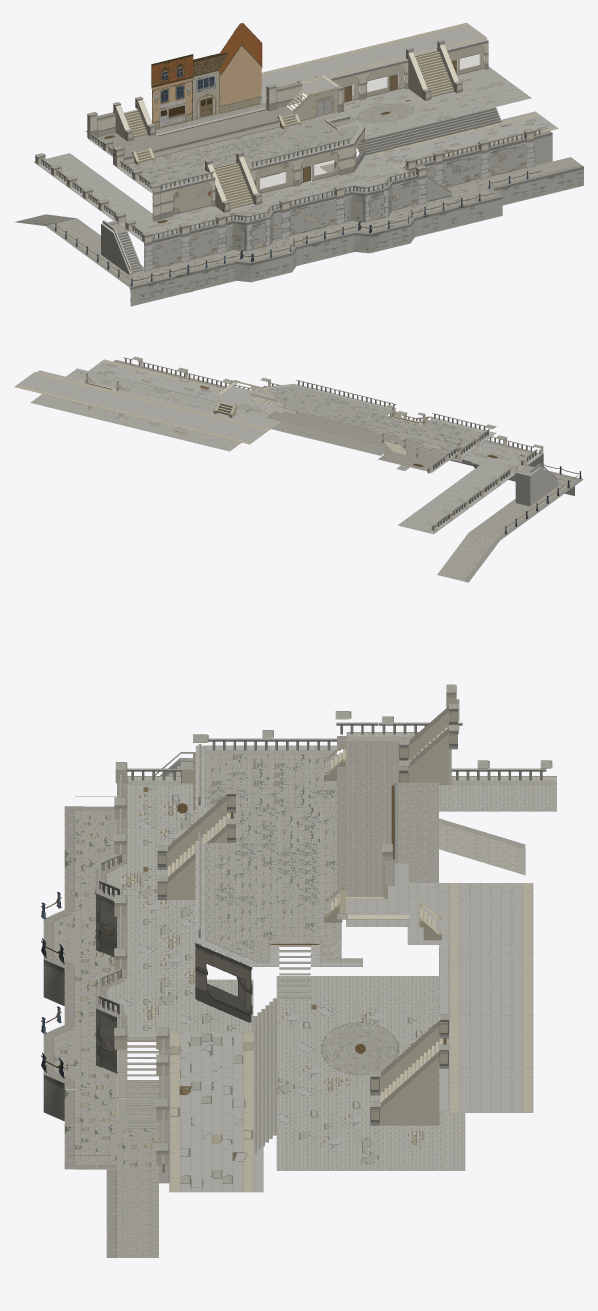
The model's file is Waterfront.gltf.
3 views of the same model, one above another, from view 1: azimuth 30°, elevation 25°; view 2: azimuth 150°, elevation 25°; view 3: azimuth 270°, elevation 25° (orthographic). The views are drawn at different scales.
Visible parts, largest first — view 1: default, ground_6_lvl_2-col (×3), staircase_big_lvl_2-col (×2), wall_lower_bulge_lvl_1-col (×2), wall_bulge_lvl_1-col (×2), ground_3_lvl_3-col, ground_4_lvl_3-col, wall_lower_2_lvl_1-col (×3), wall_upper_3_lvl_1-col (×2), ground_7_lvl_2-col, wall_arch_window_door_left_lvl_2-col (×2), double_stairs_lvl_2-col (×3) (+32 smaller); view 2: ground_6_lvl_2-col (×3), ground_4_lvl_3-col, ground_3_lvl_3-col, ground_7_lvl_2-col, ground_5_lvl_2-col, ground_3_lvl_4-col, ground_2_lvl_4-col, ground_4_lvl_4-col, floor_slope_down_lvl_1-col, ground_1_lvl_3-col, staircase_left_lvl_1-col, ground_1_lvl_2-col (+7 smaller); view 3: ground_6_lvl_2-col (×3), ground_3_lvl_3-col, default, ground_5_lvl_2-col, ground_4_lvl_3-col, staircase_big_lvl_2-col (×2), ground_1_lvl_3-col, ground_3_lvl_4-col, ground_2_lvl_4-col, ground_4_lvl_4-col, floor_5_lvl_1-col, ground_4_lvl_2-col (+21 smaller).
Part boxes in pixels (x1,y1,x2,y2): default: [104, 23, 580, 292]; ground_6_lvl_2-col (×3): [374, 65, 558, 168]; staircase_big_lvl_2-col (×2): [204, 39, 462, 212]; wall_lower_bulge_lvl_1-col (×2): [228, 214, 421, 282]; wall_bulge_lvl_1-col (×2): [225, 179, 399, 251]; ground_3_lvl_3-col: [216, 108, 358, 166]; ground_4_lvl_3-col: [88, 102, 292, 156]; wall_lower_2_lvl_1-col (×3): [300, 165, 583, 264]; wall_upper_3_lvl_1-col (×2): [404, 131, 552, 186]; ground_7_lvl_2-col: [34, 153, 152, 222]; wall_arch_window_door_left_lvl_2-col (×2): [295, 38, 489, 185]; double_stairs_lvl_2-col (×3): [360, 107, 501, 155]; ground_6_lvl_2-col (×3): [30, 359, 263, 422]; ground_4_lvl_3-col: [266, 411, 457, 472]; ground_3_lvl_3-col: [233, 386, 391, 429]; ground_7_lvl_2-col: [397, 464, 515, 534]; ground_5_lvl_2-col: [112, 389, 268, 451]; ground_3_lvl_4-col: [96, 391, 206, 428]; ground_2_lvl_4-col: [187, 408, 280, 444]; ground_4_lvl_4-col: [14, 372, 115, 406]; floor_slope_down_lvl_1-col: [437, 533, 499, 582]; ground_1_lvl_3-col: [405, 419, 493, 458]; staircase_left_lvl_1-col: [506, 456, 558, 506]; ground_1_lvl_2-col: [453, 442, 543, 471]; ground_6_lvl_2-col (×3): [169, 1033, 465, 1192]; ground_3_lvl_3-col: [206, 843, 362, 966]; default: [58, 753, 433, 1257]; ground_5_lvl_2-col: [276, 976, 449, 1091]; ground_4_lvl_3-col: [346, 732, 451, 898]; staircase_big_lvl_2-col (×2): [157, 788, 450, 1125]; ground_1_lvl_3-col: [206, 745, 338, 807]; ground_3_lvl_4-col: [449, 945, 533, 1033]; ground_2_lvl_4-col: [407, 883, 533, 944]; ground_4_lvl_4-col: [443, 1033, 533, 1112]; floor_5_lvl_1-col: [75, 1072, 158, 1169]; ground_4_lvl_2-col: [106, 935, 253, 1032].
Size of the model in its own units: 102 by 35.81 by 49.25.
Materials: 24 (24 with a texture image).
